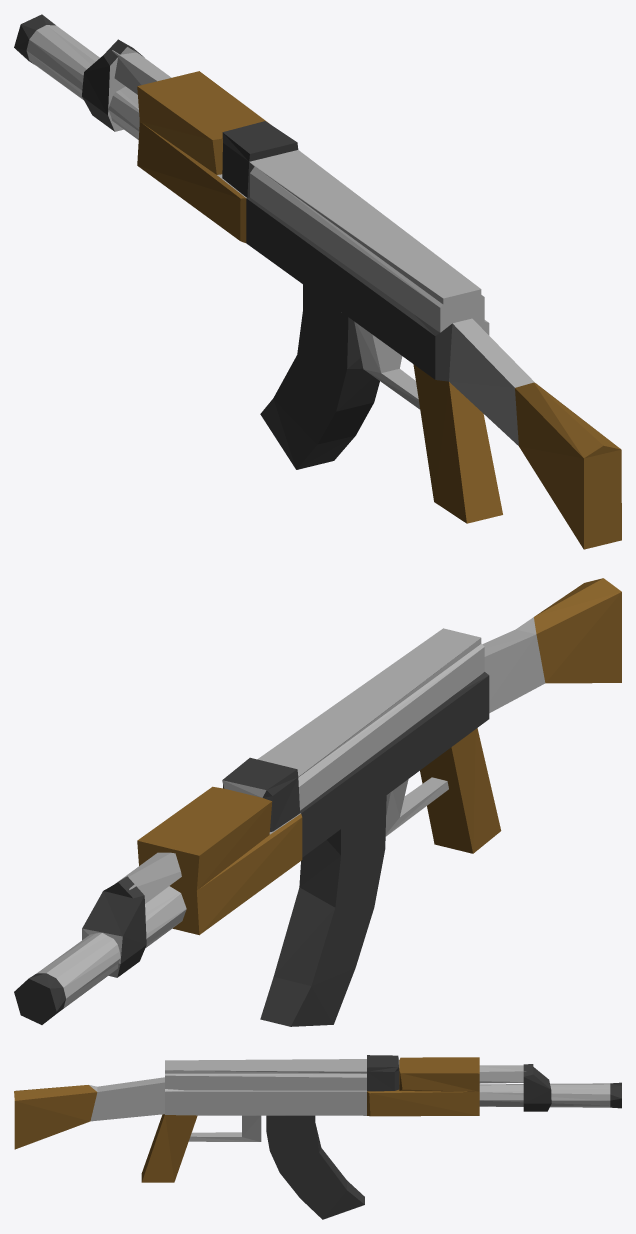
File: vandal.glb
3 renders of one model, top to bottom at view 1: azimuth 30°, elevation 25°; view 2: azimuth 150°, elevation 25°; view 3: azimuth 270°, elevation 25°, orthographic. The views are drawn at different scales.
Parts seen in each view (by area): view 1: gun; view 2: gun; view 3: gun.
Boxes of the visible parts, x1,y1,x2,y2 form: gun: (14, 14, 621, 549); gun: (14, 578, 621, 1026); gun: (14, 1055, 621, 1219).
Size of the model in its own units: 0.1448 by 0.6342 by 2.28.
